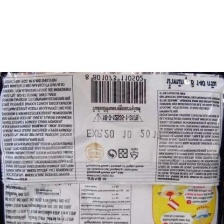snack: (0, 71, 224, 223)
